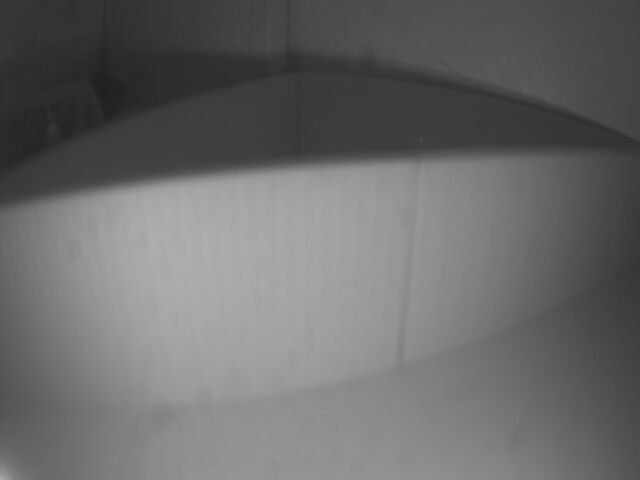Red: (8, 151, 637, 418)
